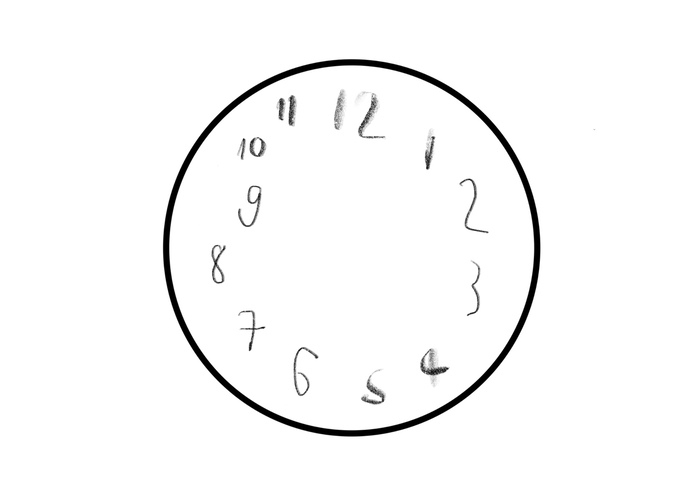eight: (206, 242, 229, 287)
eleven: (272, 94, 300, 130)
five: (359, 364, 388, 409)
four: (412, 344, 450, 392)
nine: (231, 181, 266, 229)
one: (415, 123, 441, 175)
seven: (235, 304, 266, 350)
six: (290, 342, 318, 399)
ten: (238, 133, 268, 161)
three: (460, 254, 487, 320)
twelve: (328, 80, 384, 142)
two: (451, 171, 491, 237)
